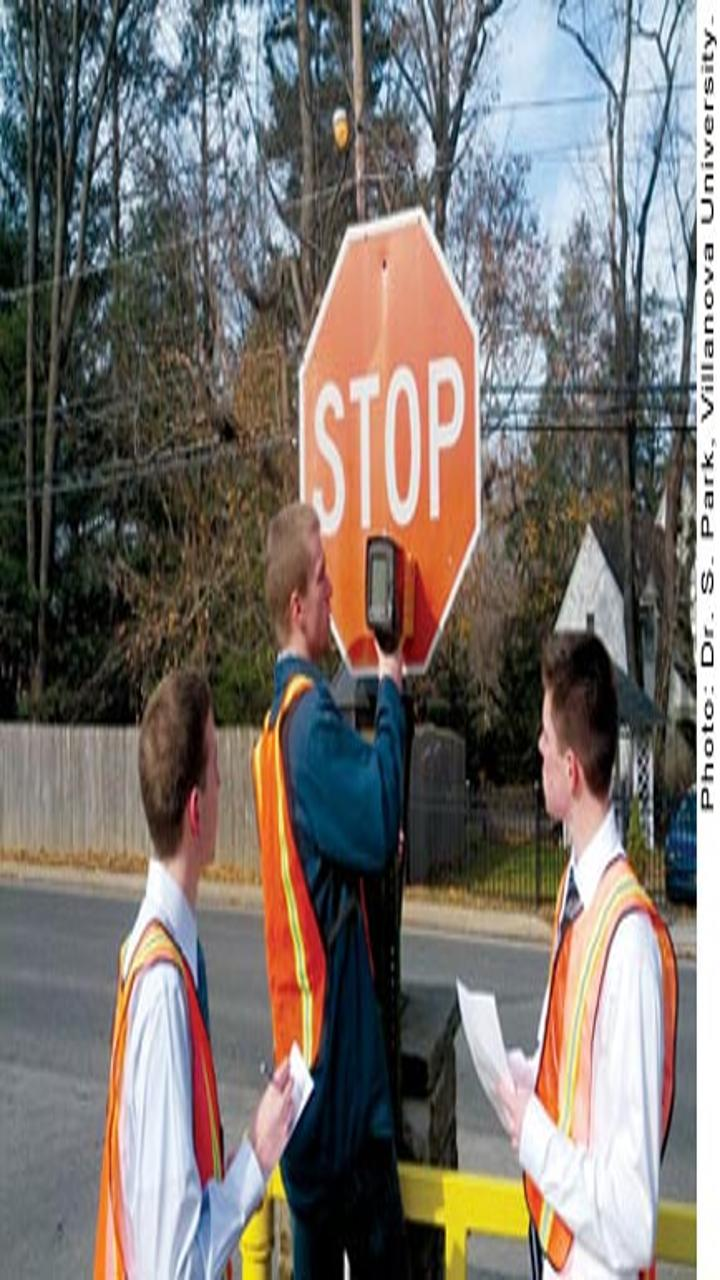Traffic sign: (283, 196, 488, 535)
pedestrian: (230, 495, 470, 1275), (467, 637, 694, 1276), (64, 641, 291, 1280)
